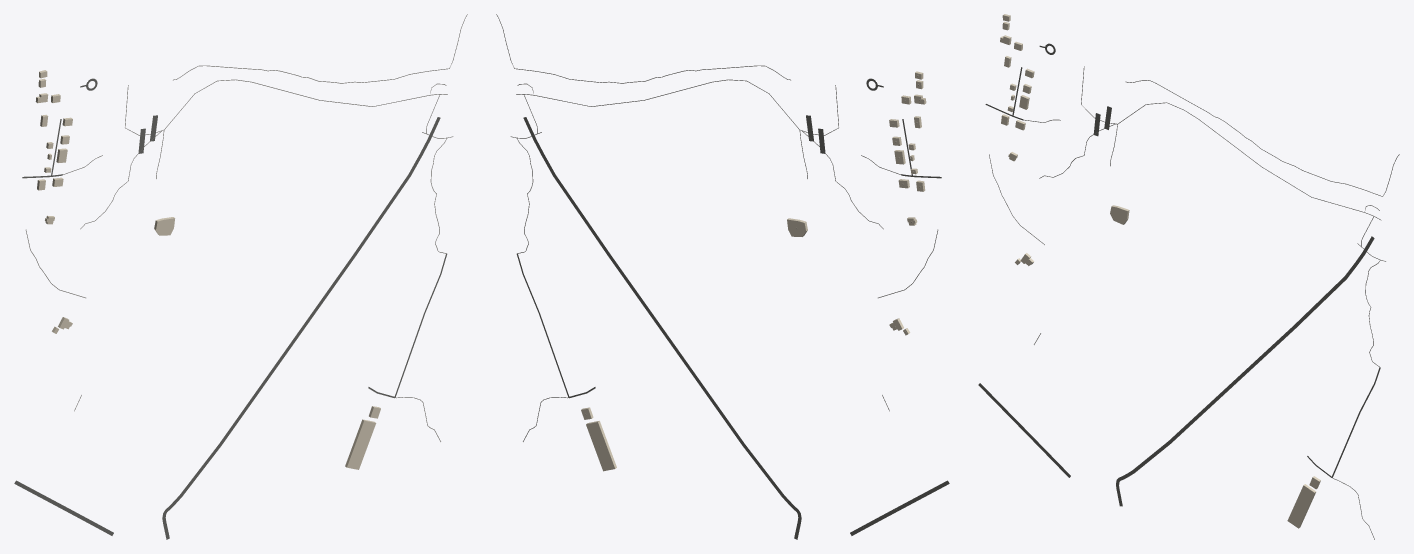
File: historic-palestine-08_27_3496_3214.glb
3 renders of one model, left to right at view 1: azimuth 30°, elevation 25°; view 2: azimuth 150°, elevation 25°; view 3: azimuth 330°, elevation 25°, orthographic. The views are drawn at different scales.
Parts seen in each view (by area): view 1: Road 5232, Building_; view 2: Road 5232, Building_; view 3: Road 5232, Building_.
Boxes of the visible parts, bbox=[...] form: Road 5232: bbox=[162, 117, 440, 539]; Building_: bbox=[345, 419, 376, 469]; Road 5232: bbox=[523, 117, 801, 539]; Building_: bbox=[586, 421, 616, 471]; Road 5232: bbox=[1116, 236, 1374, 506]; Building_: bbox=[1287, 484, 1316, 528].
Size of the model in its own units: 1065 by 1117 by 8.7.
